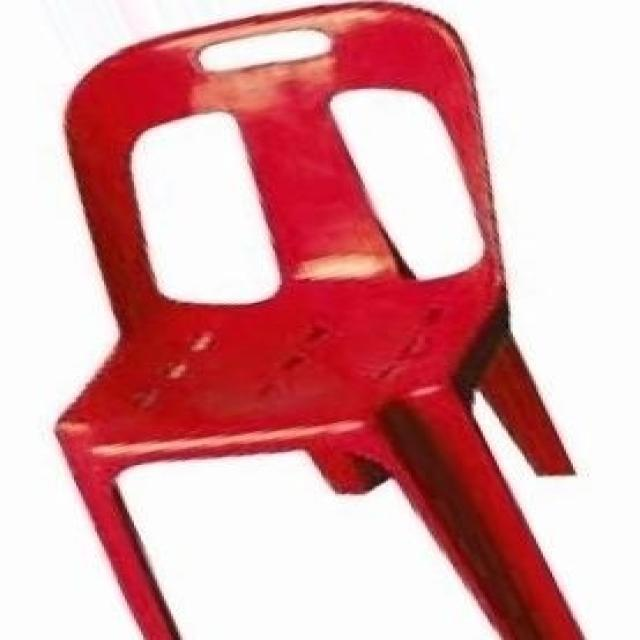chair: (48, 1, 593, 640)
